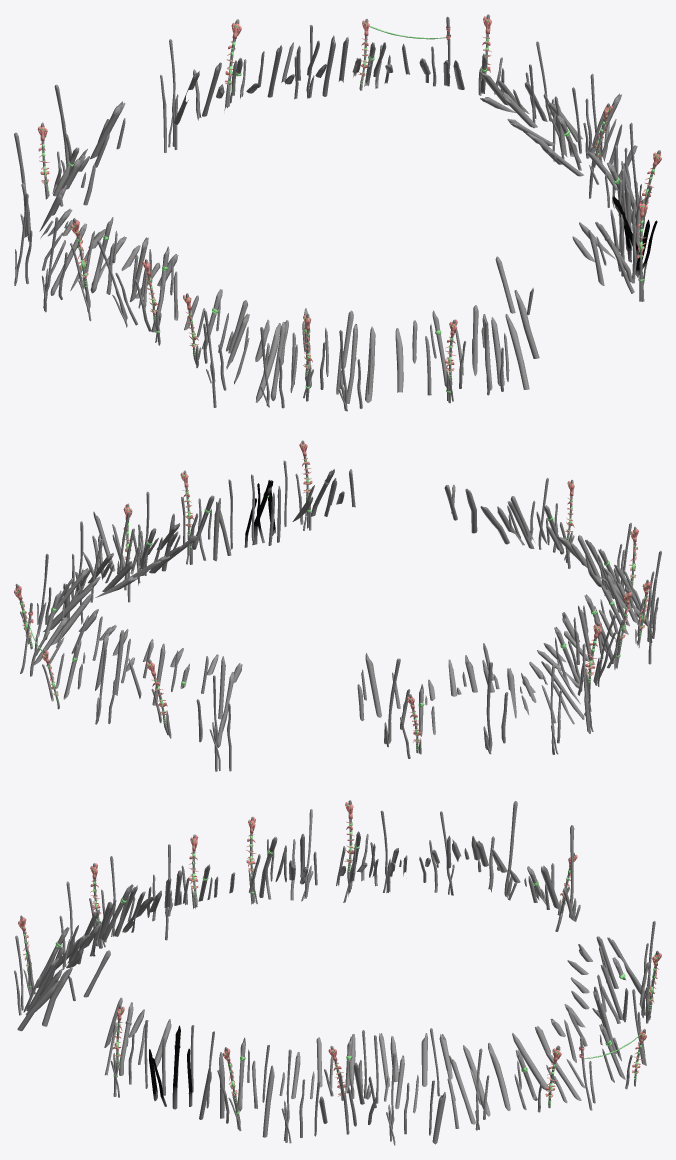
Rendered from palisade_arena_combined_A_01.gltf.
The picture shows the model from 3 angles, top to bottom: view 1: azimuth 30°, elevation 25°; view 2: azimuth 150°, elevation 25°; view 3: azimuth 270°, elevation 25°; orthographic projection. The views are drawn at different scales.
Visible parts, largest first — view 1: palisade_arena_combined_A_01; view 2: palisade_arena_combined_A_01; view 3: palisade_arena_combined_A_01.
Part boxes in pixels (bbox=[...]): palisade_arena_combined_A_01: bbox=[14, 14, 661, 411]; palisade_arena_combined_A_01: bbox=[14, 440, 661, 771]; palisade_arena_combined_A_01: bbox=[14, 800, 661, 1145].
Size of the model in its own units: 22.34 by 5.69 by 23.7.
